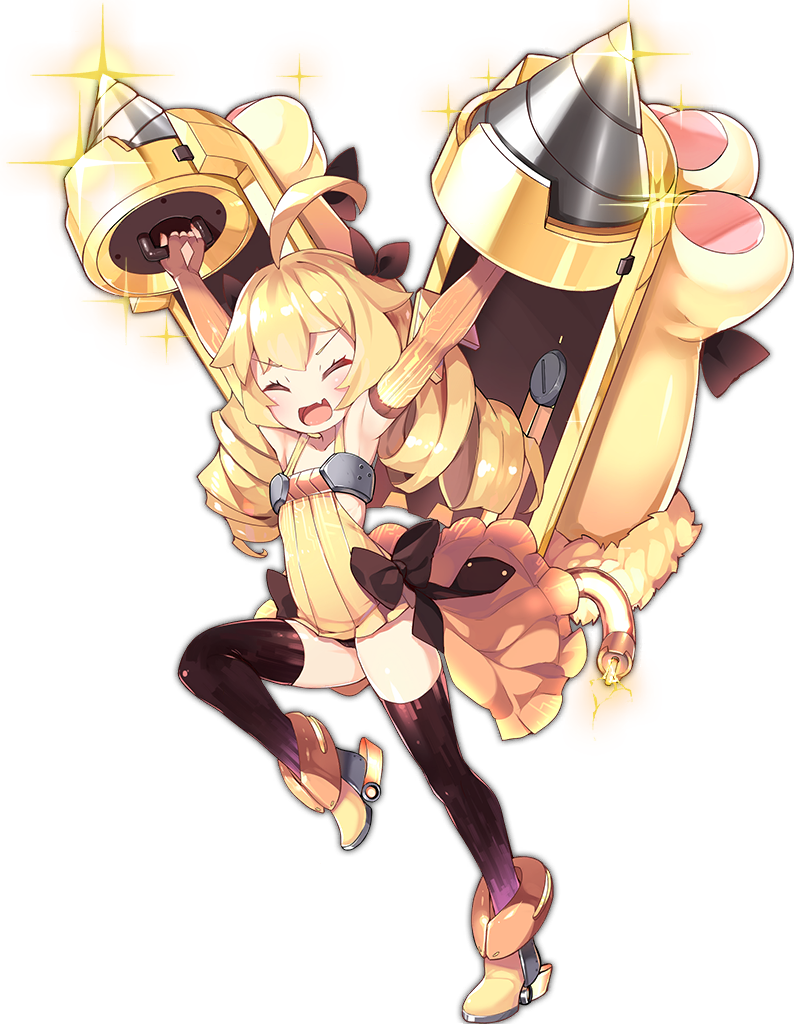person: (149, 209, 743, 1013)
